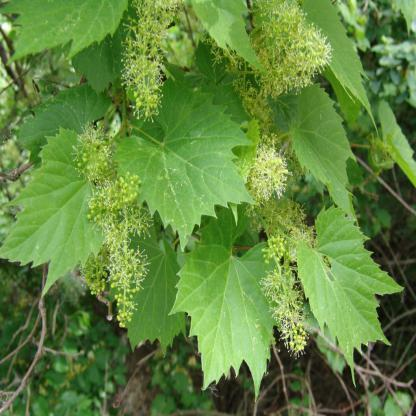grape leaf black rot: (117, 80, 251, 246), (158, 241, 276, 401), (0, 126, 96, 302), (292, 84, 357, 223), (130, 247, 184, 358)
